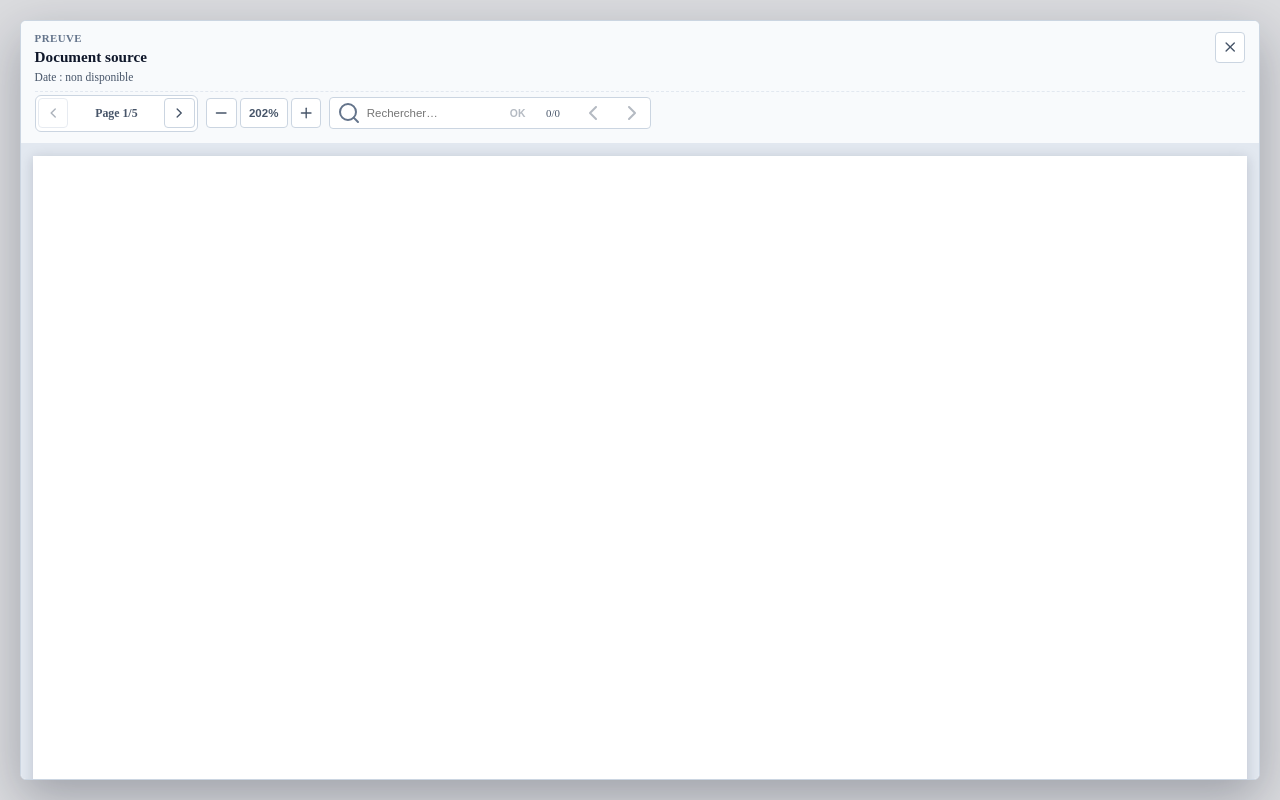
Test case: SignalPdfOverlay recherche plein-texte › indexe paresseusement toutes les pages puis navigue entre les résultats
In the search field named "Rechercher dans le document": (433, 113) [365, 106, 501, 120], type "terme"
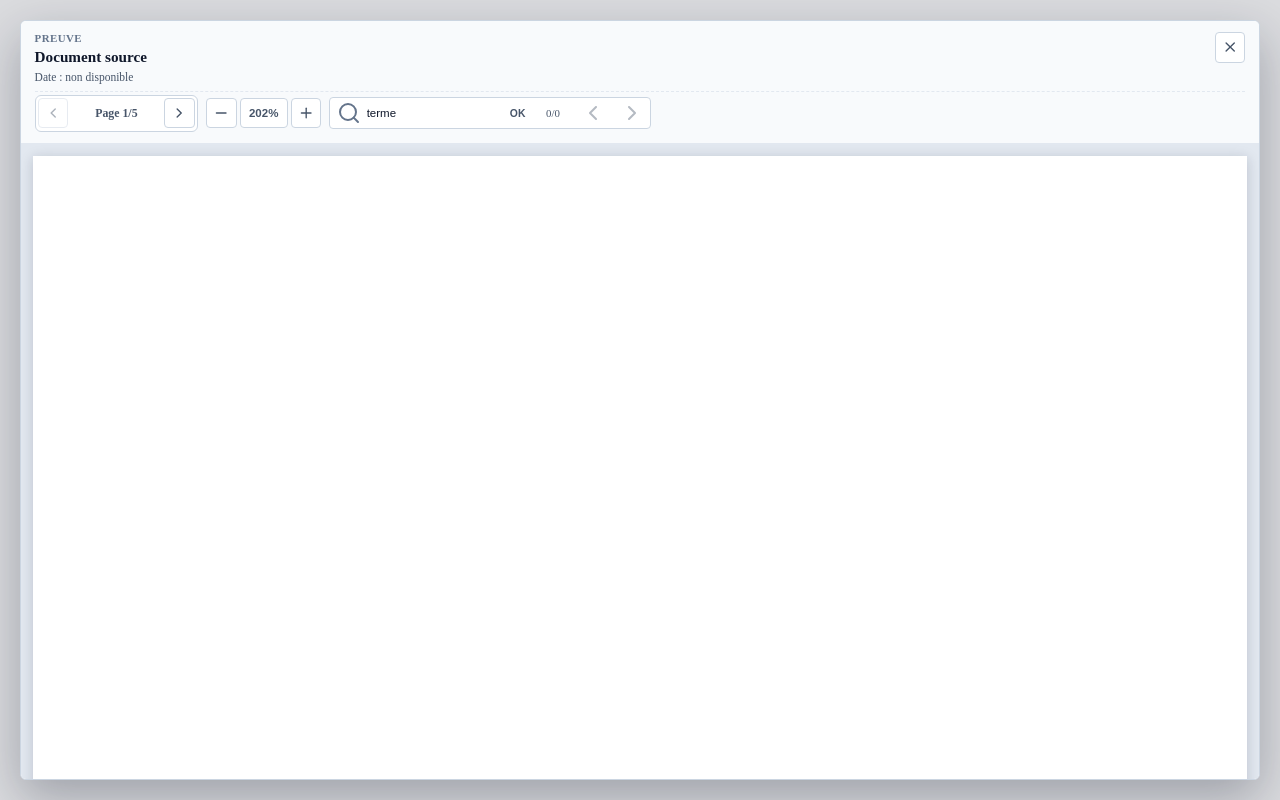
Click the button with aria-label "Lancer la recherche": click(518, 113) [504, 101, 531, 126]
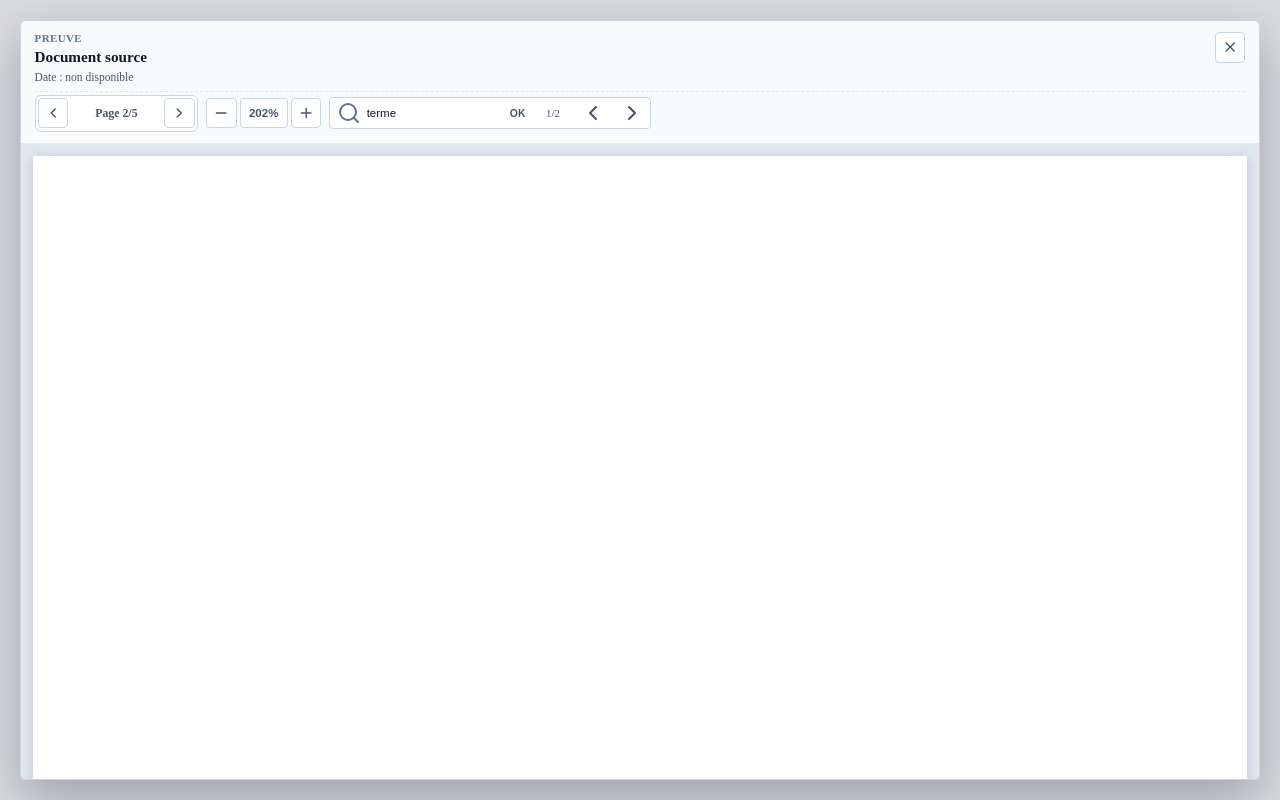
Now the text "1/2" is shown, box [546, 107, 560, 119]
Click the button named "Résultat suivant": click(632, 113) [614, 101, 650, 126]
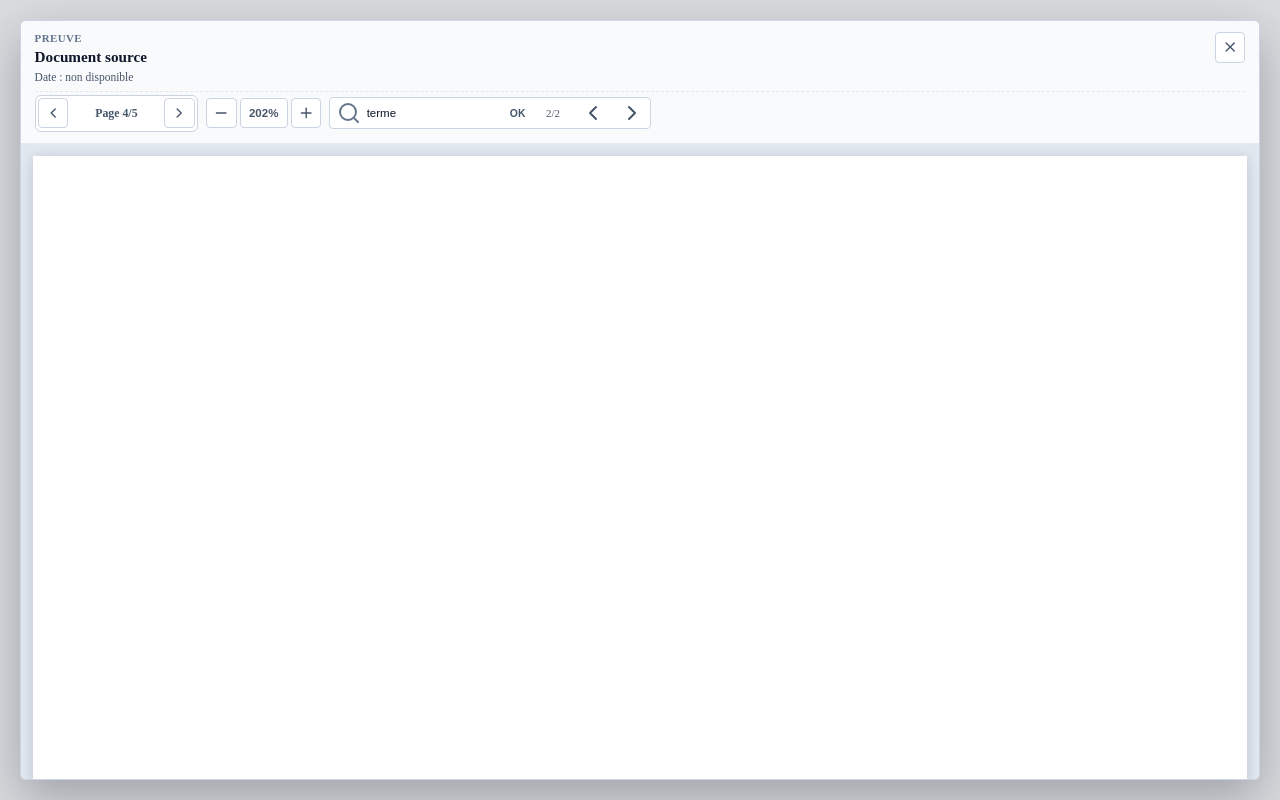
Now the text "2/2" is shown, box [546, 107, 560, 119]
